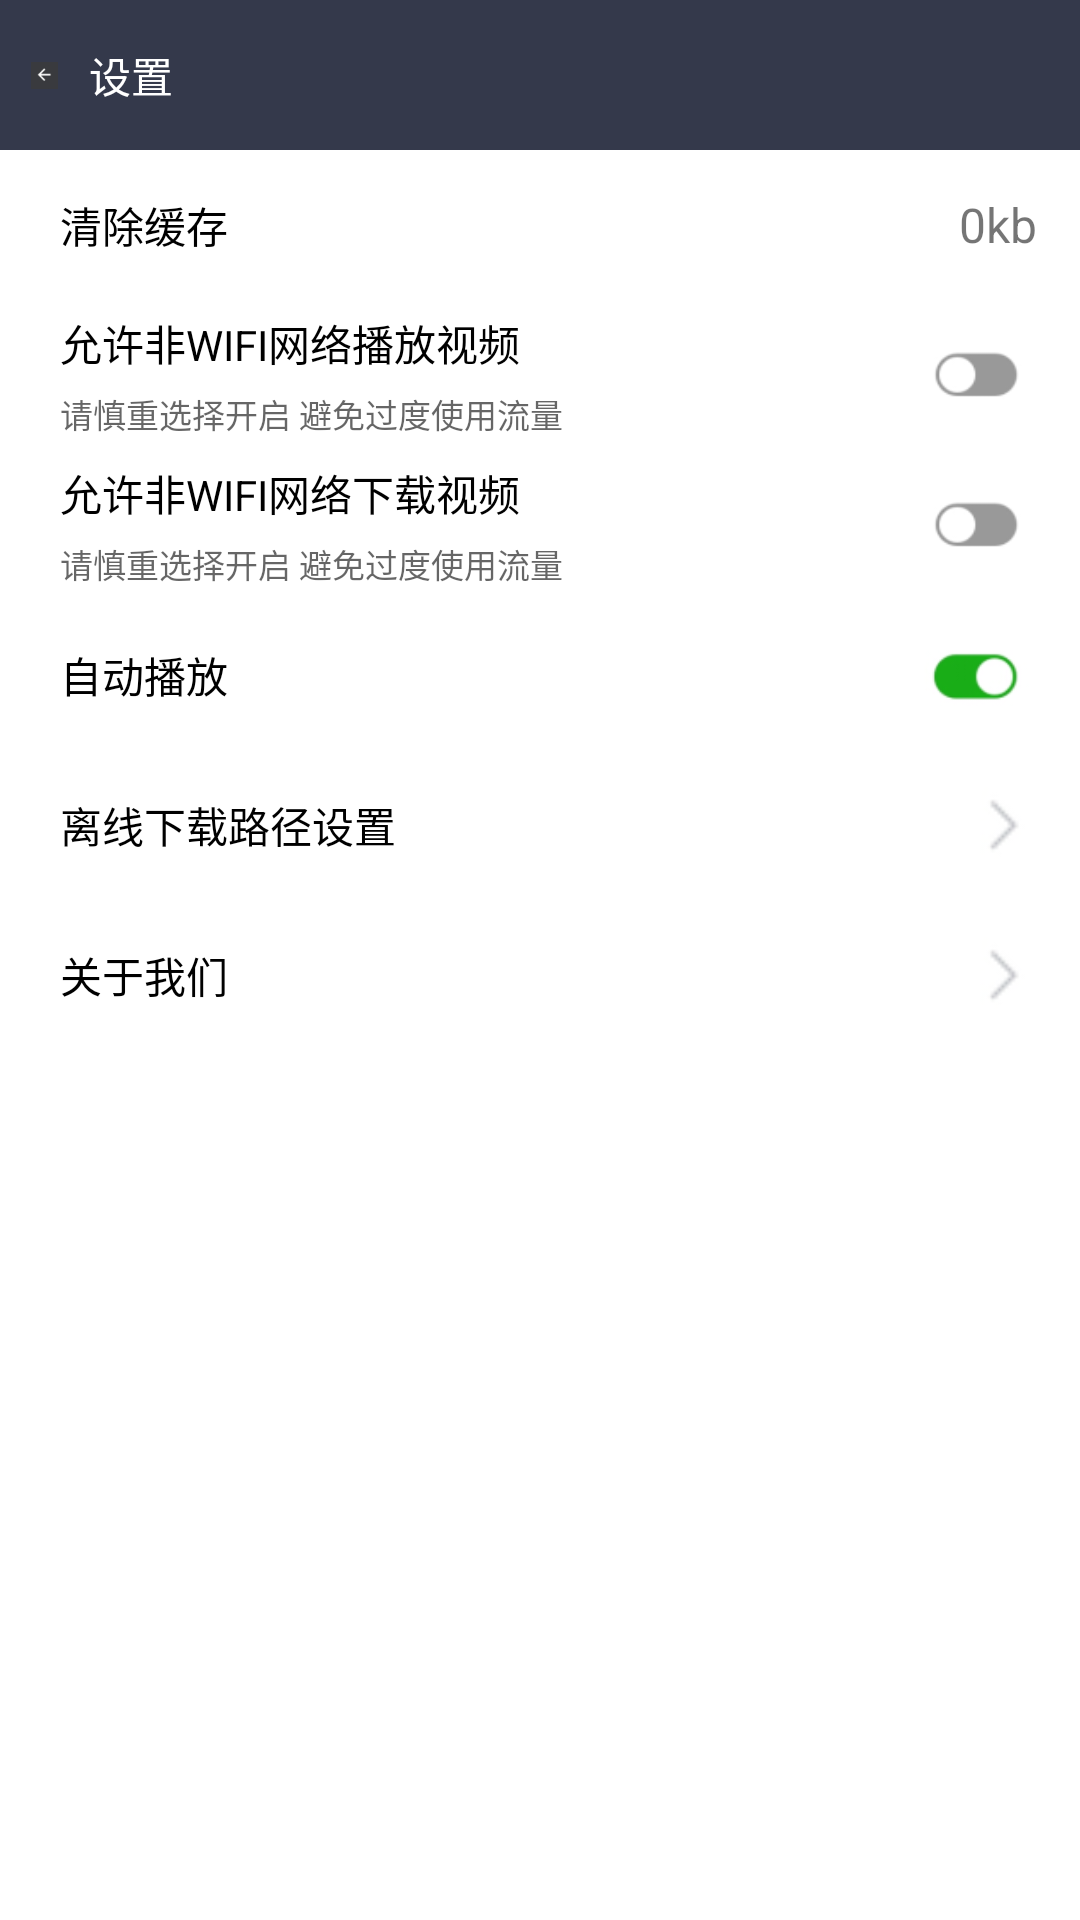

Named icons in this screenshot (1080x1920) and their centers, (x,y):
fanhuijian: (44,75)
youtubiao: (1003,825), (1003,975)
